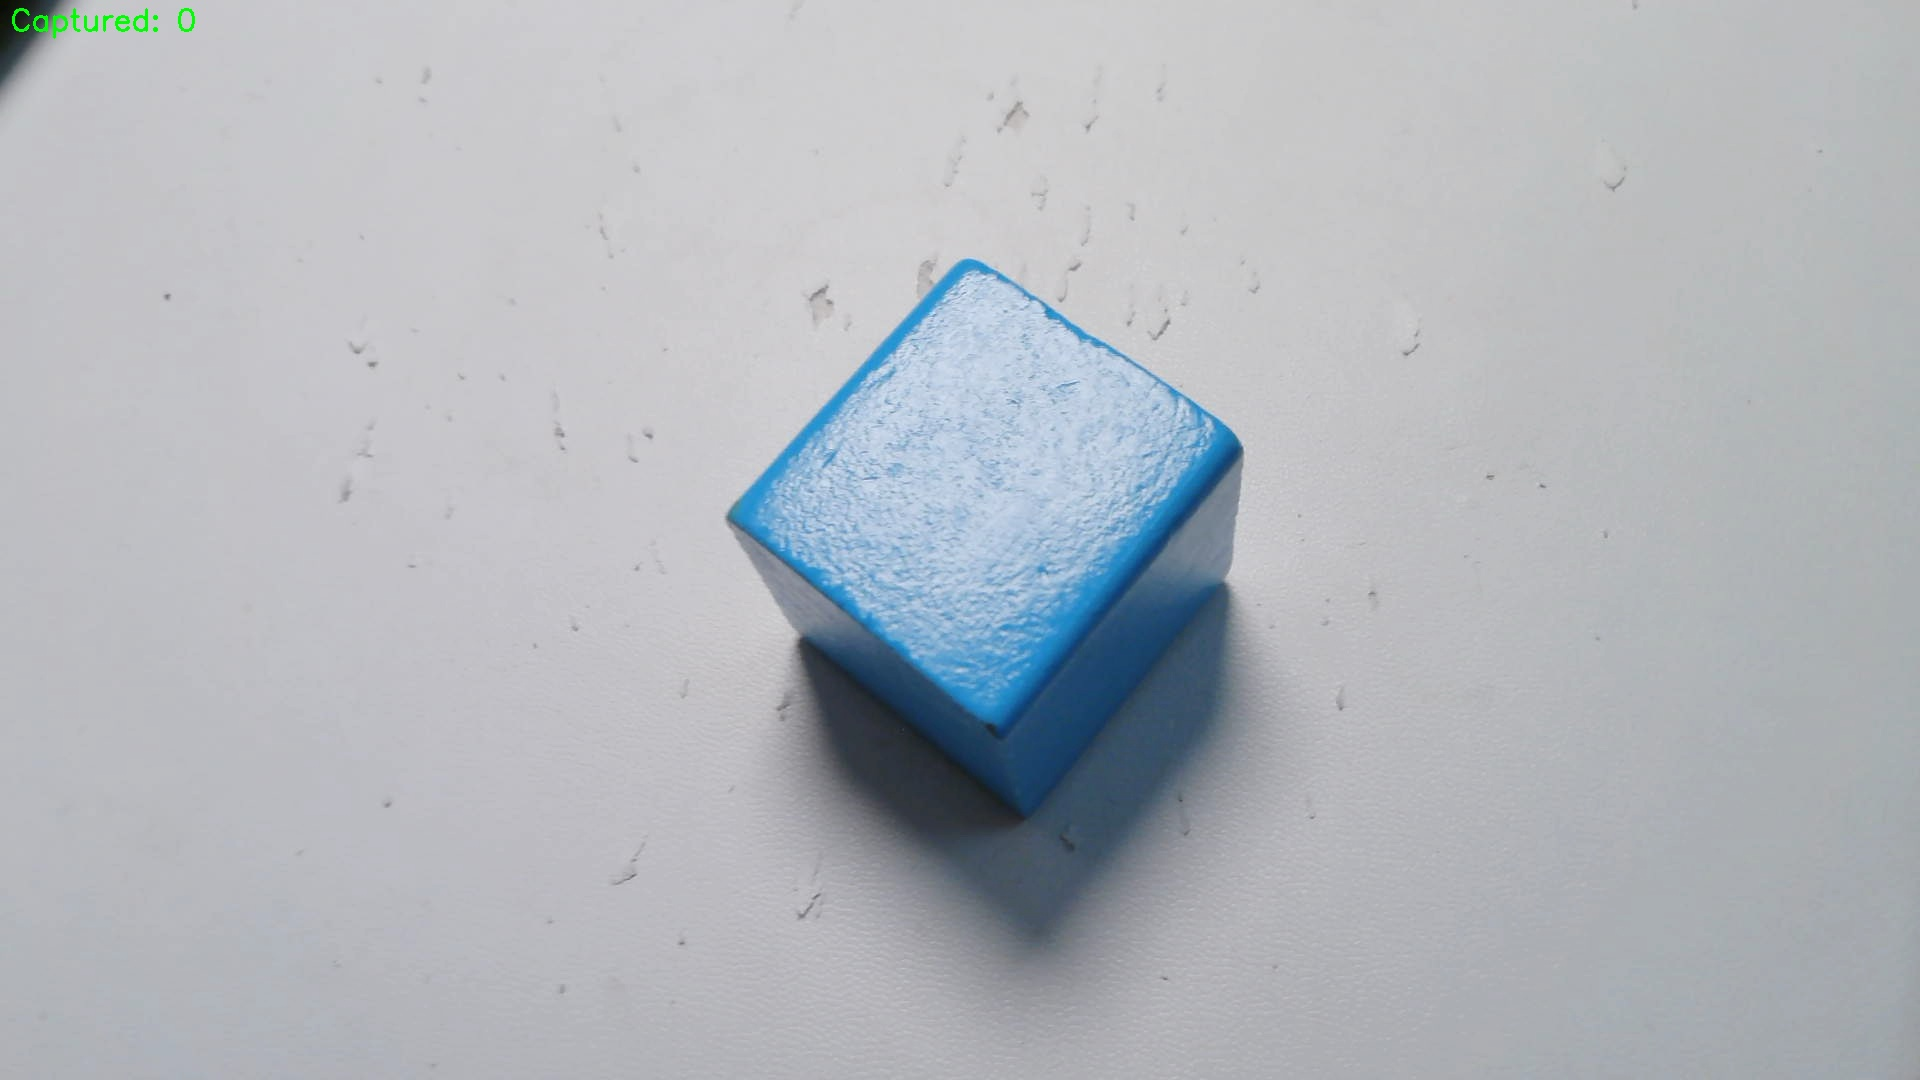blue: (727, 261, 1244, 818)
